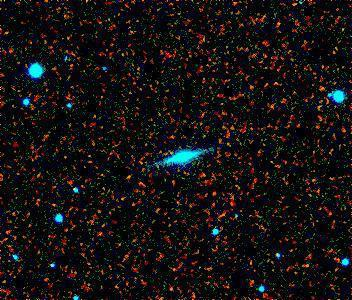star: (115, 161, 145, 191)
